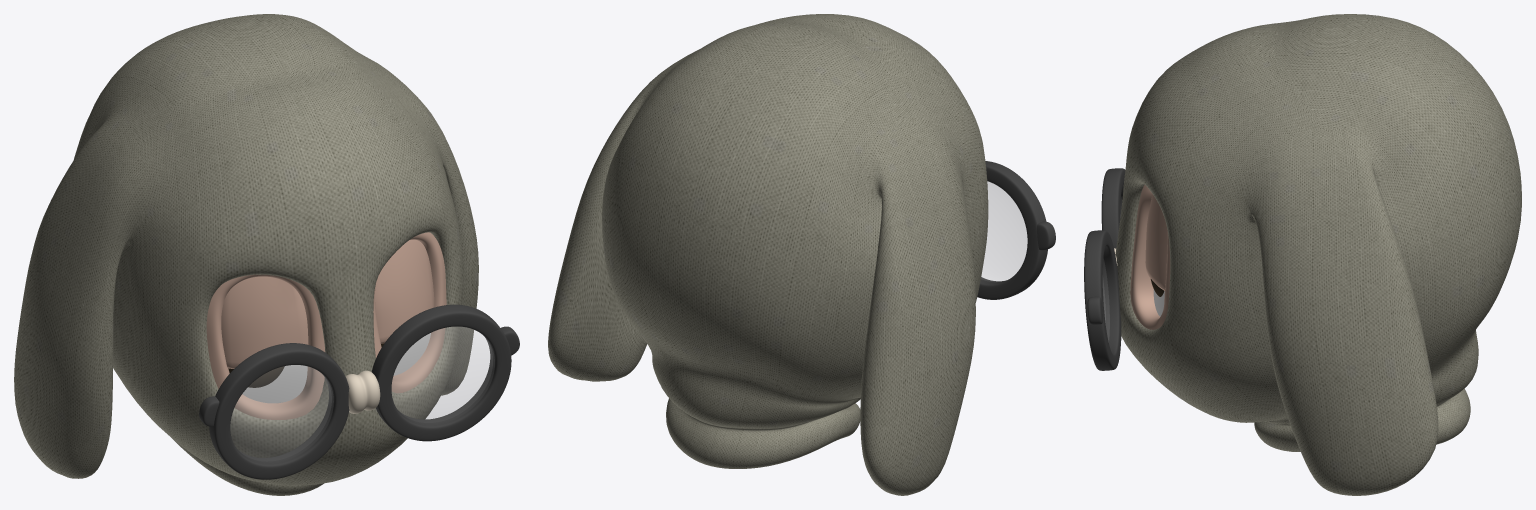
3 renders of one model, left to right at view 1: azimuth 30°, elevation 25°; view 2: azimuth 150°, elevation 25°; view 3: azimuth 270°, elevation 25°, orthographic. The views are drawn at different scales.
Visible parts, largest first — view 1: Hippie_Balaclava.005, frame.001, lenses.001, Face.006, Eyelid_right.006, Eyelid_left.006, Sclera.008, Toroide.001, Endpieces.001; view 2: Hippie_Balaclava.005, frame.001, lenses.001; view 3: Hippie_Balaclava.005, frame.001, Face.006, Eyelid_left.006.
Boxes of the visible parts, x1,y1,x2,y2 form: Hippie_Balaclava.005: [14, 14, 478, 495]; frame.001: [209, 304, 511, 479]; lenses.001: [230, 327, 494, 462]; Face.006: [206, 232, 446, 419]; Eyelid_right.006: [221, 276, 308, 368]; Eyelid_left.006: [375, 239, 434, 343]; Sclera.008: [242, 333, 430, 403]; Toroide.001: [345, 370, 380, 413]; Endpieces.001: [199, 326, 519, 426]; Hippie_Balaclava.005: [548, 14, 988, 495]; frame.001: [977, 161, 1047, 299]; lenses.001: [981, 182, 1027, 281]; Hippie_Balaclava.005: [1115, 14, 1521, 495]; frame.001: [1084, 168, 1125, 370]; Face.006: [1130, 185, 1170, 329]; Eyelid_left.006: [1145, 194, 1167, 290].
Size of the model in its own units: 0.9705 by 0.9616 by 0.9425.
6 materials, 1 textured.
